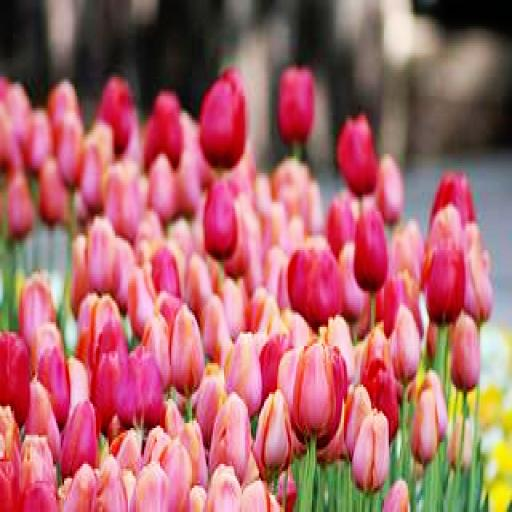tulip: (288, 339, 350, 442), (200, 67, 250, 166), (286, 243, 342, 324), (117, 346, 165, 426), (352, 204, 392, 291), (20, 272, 62, 351), (352, 411, 392, 493), (202, 180, 242, 262), (424, 245, 467, 320)
